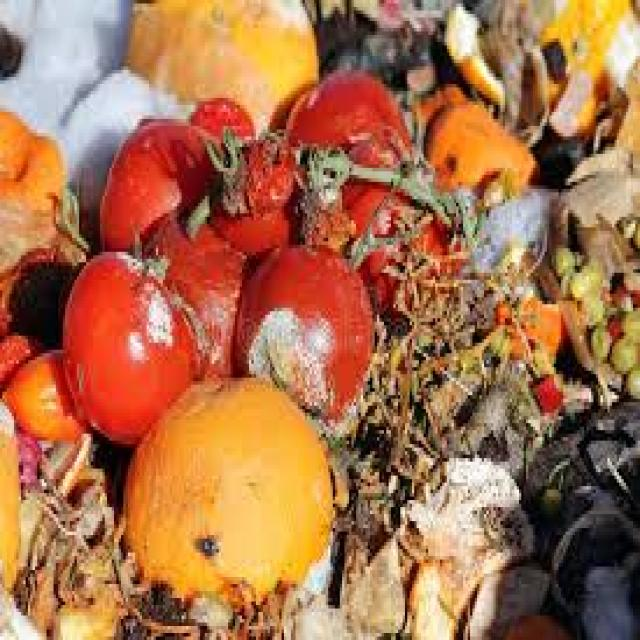biodegradable: (119, 371, 328, 605), (58, 248, 210, 444), (279, 56, 419, 245), (230, 238, 375, 420), (307, 136, 459, 301), (124, 0, 317, 126), (479, 0, 637, 136), (145, 203, 252, 378), (405, 444, 531, 577), (96, 112, 221, 245), (414, 94, 545, 210), (0, 109, 86, 270), (210, 123, 301, 249), (5, 336, 89, 448), (340, 521, 410, 637), (0, 241, 74, 346), (398, 556, 491, 637), (38, 441, 103, 553), (440, 0, 503, 101), (459, 556, 543, 630), (282, 546, 345, 637), (52, 560, 124, 637), (575, 553, 638, 637), (494, 287, 559, 367), (0, 322, 51, 395), (19, 532, 58, 626), (0, 399, 19, 588), (187, 95, 252, 144), (412, 77, 468, 129), (508, 609, 594, 637), (14, 416, 44, 490), (40, 434, 79, 483), (529, 374, 566, 413), (608, 336, 636, 371), (544, 242, 575, 270), (614, 301, 638, 336), (607, 280, 633, 311), (568, 259, 591, 294), (575, 287, 598, 322), (589, 315, 607, 357), (621, 357, 638, 395), (540, 483, 563, 511), (584, 252, 605, 280), (626, 273, 638, 308), (559, 266, 570, 294), (601, 305, 612, 333)
